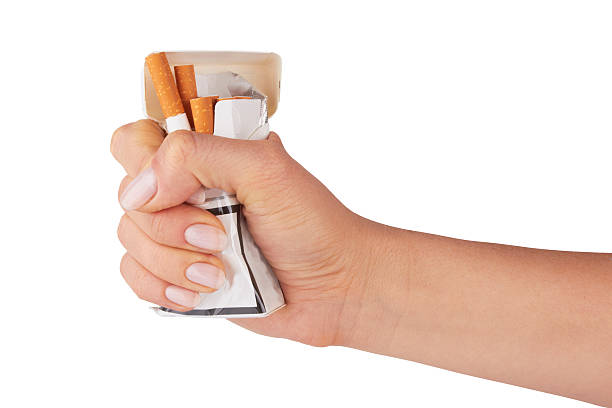cigarette: (138, 48, 288, 320), (144, 50, 192, 134), (173, 62, 199, 132), (189, 96, 215, 133)
